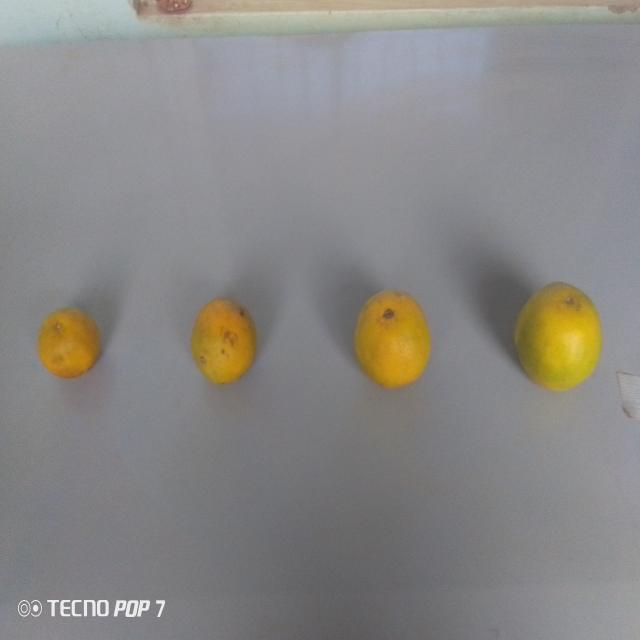Ripe orange: (512, 278, 607, 402), (347, 284, 439, 394), (32, 301, 110, 392), (187, 296, 261, 390)
